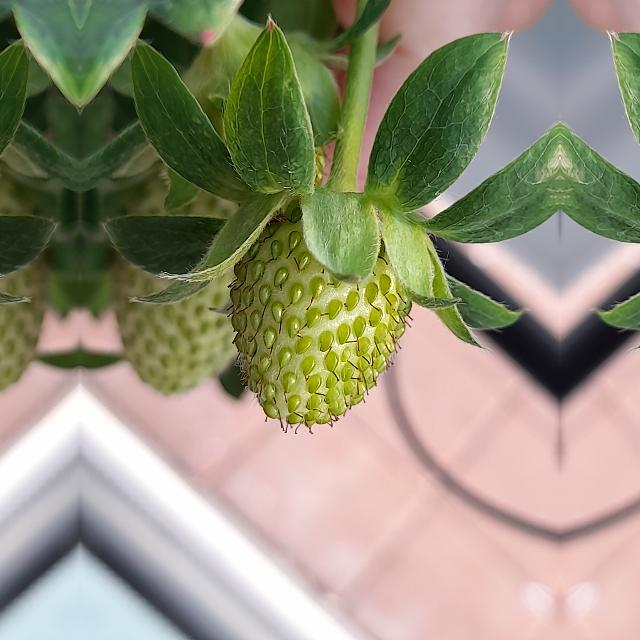Health_25: (226, 196, 414, 434)
